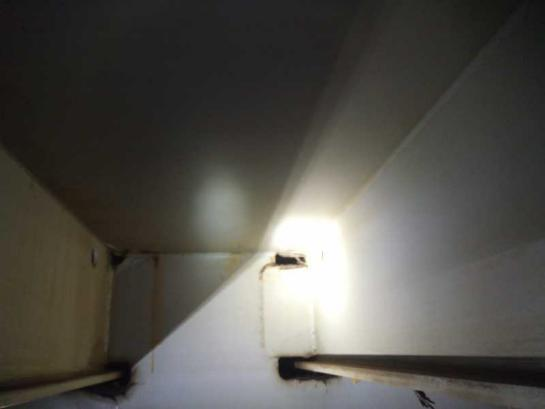corrosion: (359, 371, 508, 408), (140, 255, 166, 385), (257, 264, 277, 346)
